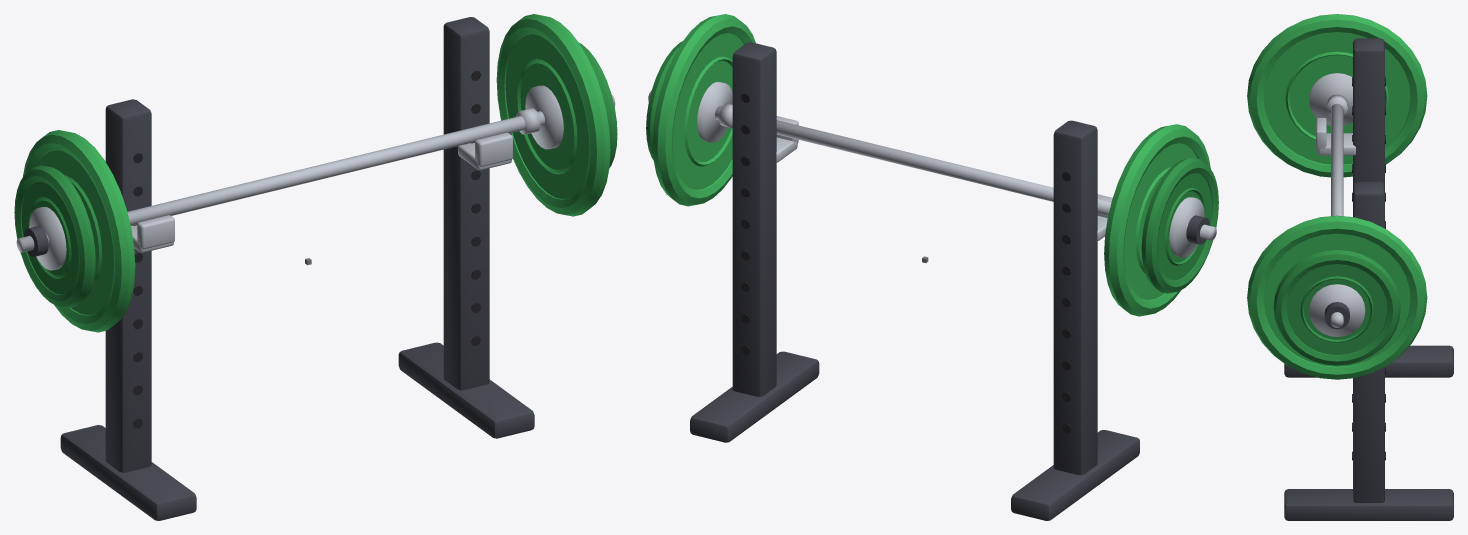
Rendered from BarbellRack.fbx.
The picture shows the model from 3 angles, left to right: view 1: azimuth 30°, elevation 25°; view 2: azimuth 150°, elevation 25°; view 3: azimuth 270°, elevation 25°; orthographic projection. The views are drawn at different scales.
Parts seen in each view (by area): view 1: BarbellRack_Iron, BarbellRack_Body, BarbellRack_Steel, BarbellRack_Shade, BarbellRack_Rubber; view 2: BarbellRack_Iron, BarbellRack_Body, BarbellRack_Steel, BarbellRack_Shade, BarbellRack_Rubber; view 3: BarbellRack_Body, BarbellRack_Iron, BarbellRack_Shade, BarbellRack_Steel.
Part boxes in pixels (x1,y1,x2,y2): BarbellRack_Iron: (23,17,534,520); BarbellRack_Body: (22,14,610,332); BarbellRack_Steel: (16,85,615,270); BarbellRack_Shade: (14,43,617,308); BarbellRack_Rubber: (133,70,480,428); BarbellRack_Iron: (690,42,1210,520); BarbellRack_Body: (652,14,1210,316); BarbellRack_Steel: (648,82,1216,257); BarbellRack_Shade: (646,41,1218,293); BarbellRack_Rubber: (741,93,1071,433); BarbellRack_Body: (1247,14,1427,379); BarbellRack_Iron: (1284,38,1453,520); BarbellRack_Shade: (1273,249,1400,365); BarbellRack_Steel: (1309,73,1365,336).
Size of the model in its own units: 560 by 340 by 195.
